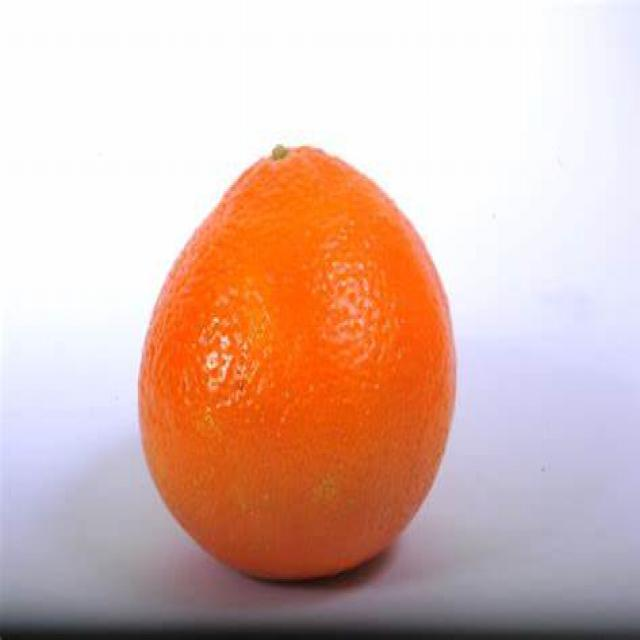Orange: (140, 140, 451, 588)
